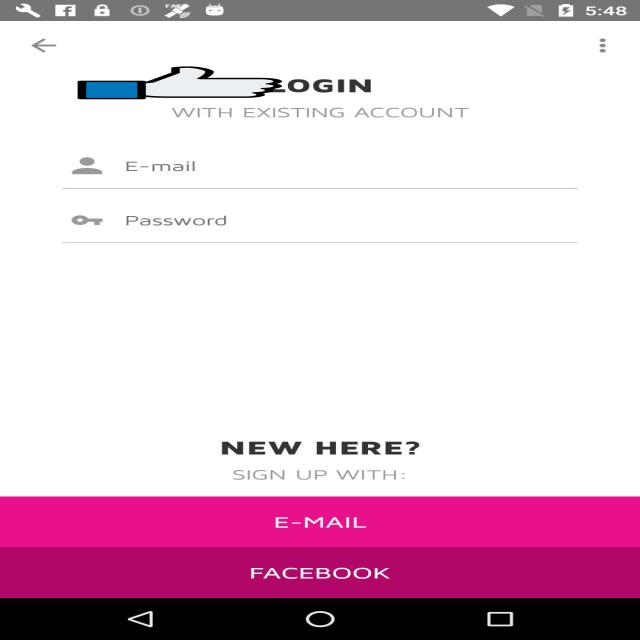privacy zuckering: (78, 66, 282, 100)
